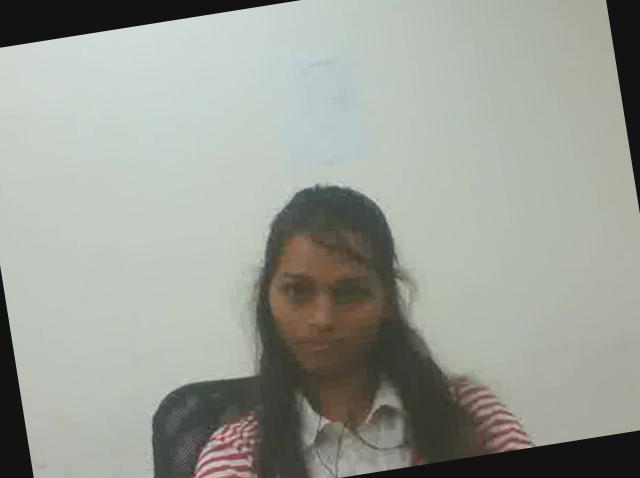bingung: (267, 230, 399, 386)
